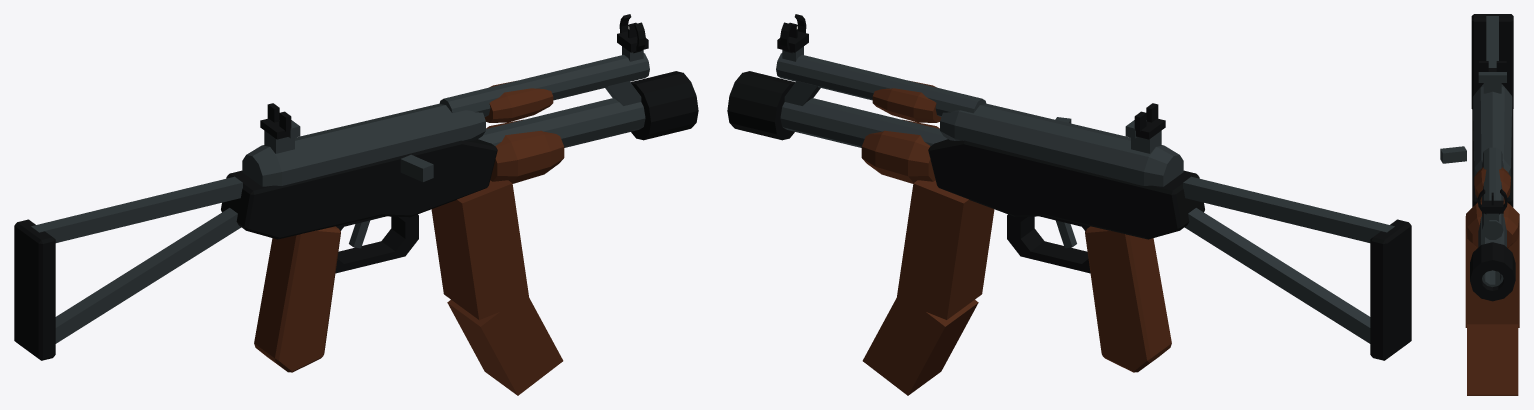
The model's file is CE_Gun_AKSSeventyFourU.obj.
The picture shows the model from 3 angles, left to right: view 1: azimuth 30°, elevation 25°; view 2: azimuth 150°, elevation 25°; view 3: azimuth 270°, elevation 25°; orthographic projection. The views are drawn at different scales.
Visible parts, largest first — view 1: AK_stepped_lower_receiver, Magazine_upper, Rounded_receiver_dust_cover, AK_curved_palm_grip, Curved_magazine_heel, Folding_butt_pad, Folding_stock_lower, Folding_stock_upper, Gas_tube, Hollow_barrel, Short_flared_booster, Lower_shaped_handguard (+4 smaller); view 2: AK_stepped_lower_receiver, Magazine_upper, Rounded_receiver_dust_cover, AK_curved_palm_grip, Curved_magazine_heel, Folding_butt_pad, Folding_stock_lower, Folding_stock_upper, Gas_tube, Hollow_barrel, Short_flared_booster, Lower_shaped_handguard (+3 smaller); view 3: Curved_magazine_heel, Rounded_receiver_dust_cover, Magazine_upper, Folding_butt_pad, Short_flared_booster, Gas_tube, Lower_shaped_handguard, Folding_stock_upper, AK_stepped_lower_receiver, Hollow_barrel, Upper_gas_handguard, Charging_handle (+7 smaller).
Part boxes in pixels (<box>): AK_stepped_lower_receiver: <box>221,139,497,239</box>; Magazine_upper: <box>431,180,529,319</box>; Rounded_receiver_dust_cover: <box>242,103,485,186</box>; AK_curved_palm_grip: <box>254,226,340,372</box>; Curved_magazine_heel: <box>447,298,563,395</box>; Folding_butt_pad: <box>14,219,55,360</box>; Folding_stock_lower: <box>55,208,241,343</box>; Folding_stock_upper: <box>31,176,242,242</box>; Gas_tube: <box>439,53,649,116</box>; Hollow_barrel: <box>478,98,645,147</box>; Short_flared_booster: <box>630,71,698,140</box>; Lower_shaped_handguard: <box>486,119,564,183</box>; AK_stepped_lower_receiver: <box>928,139,1204,239</box>; Magazine_upper: <box>896,180,994,319</box>; Rounded_receiver_dust_cover: <box>940,103,1183,186</box>; AK_curved_palm_grip: <box>1085,226,1171,372</box>; Curved_magazine_heel: <box>862,298,978,395</box>; Folding_butt_pad: <box>1370,219,1411,360</box>; Folding_stock_lower: <box>1184,208,1370,343</box>; Folding_stock_upper: <box>1183,176,1394,242</box>; Gas_tube: <box>776,53,986,116</box>; Hollow_barrel: <box>780,98,947,147</box>; Short_flared_booster: <box>727,71,795,140</box>; Lower_shaped_handguard: <box>861,119,939,183</box>; Curved_magazine_heel: <box>1467,324,1518,395</box>; Rounded_receiver_dust_cover: <box>1473,84,1512,176</box>; Magazine_upper: <box>1465,216,1519,327</box>; Folding_butt_pad: <box>1471,14,1513,108</box>; Short_flared_booster: <box>1470,242,1515,301</box>; Gas_tube: <box>1482,147,1503,239</box>; Lower_shaped_handguard: <box>1466,202,1519,248</box>; Folding_stock_upper: <box>1486,16,1498,67</box>; AK_stepped_lower_receiver: <box>1472,97,1513,207</box>; Hollow_barrel: <box>1478,201,1506,287</box>; Upper_gas_handguard: <box>1474,167,1510,202</box>; Charging_handle: <box>1440,146,1466,163</box>.
Bounding box in the file's own units: 0.9675 × 0.468 × 0.1323.
